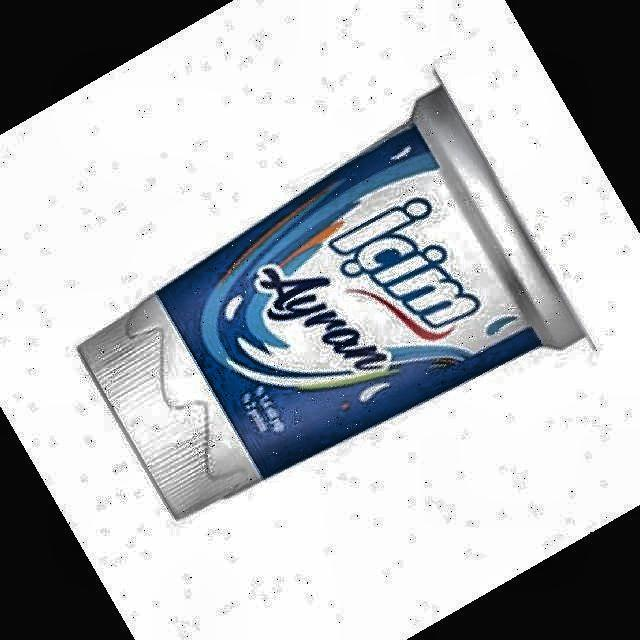plastic: (80, 86, 585, 517)
